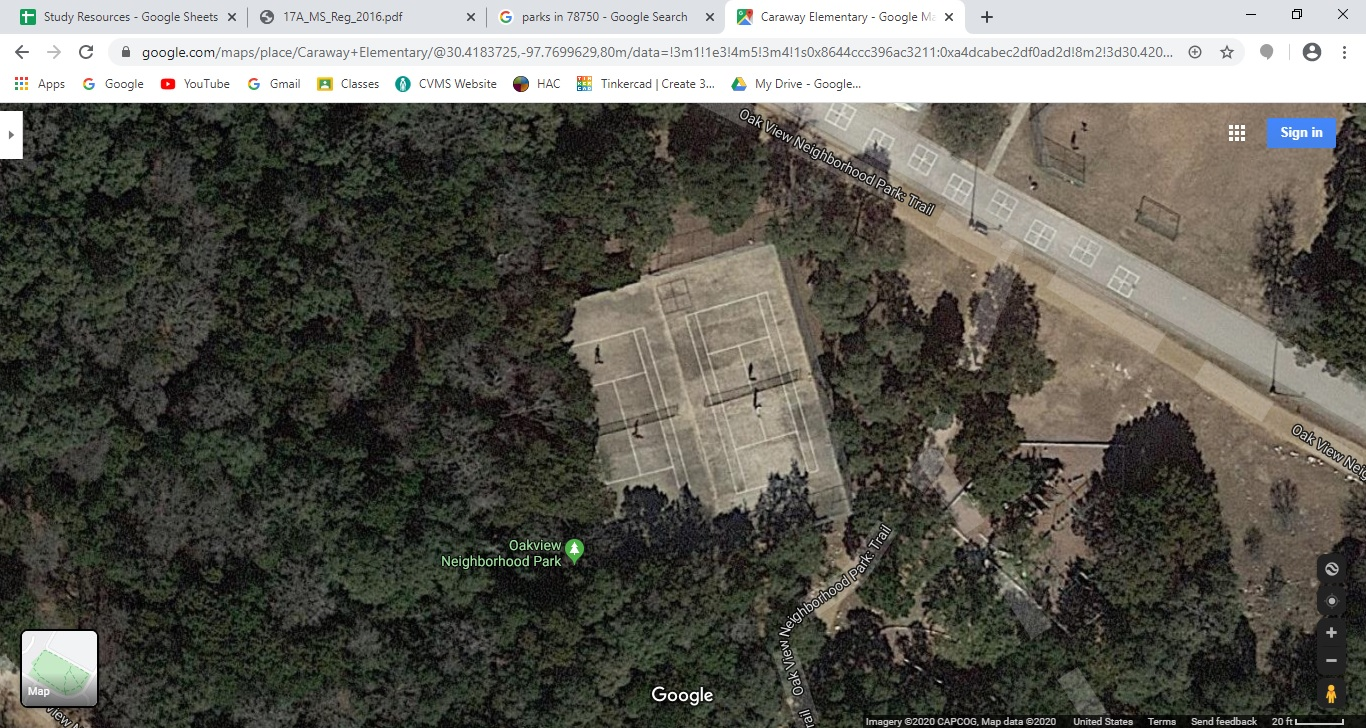tennis: (662, 262, 844, 507)
